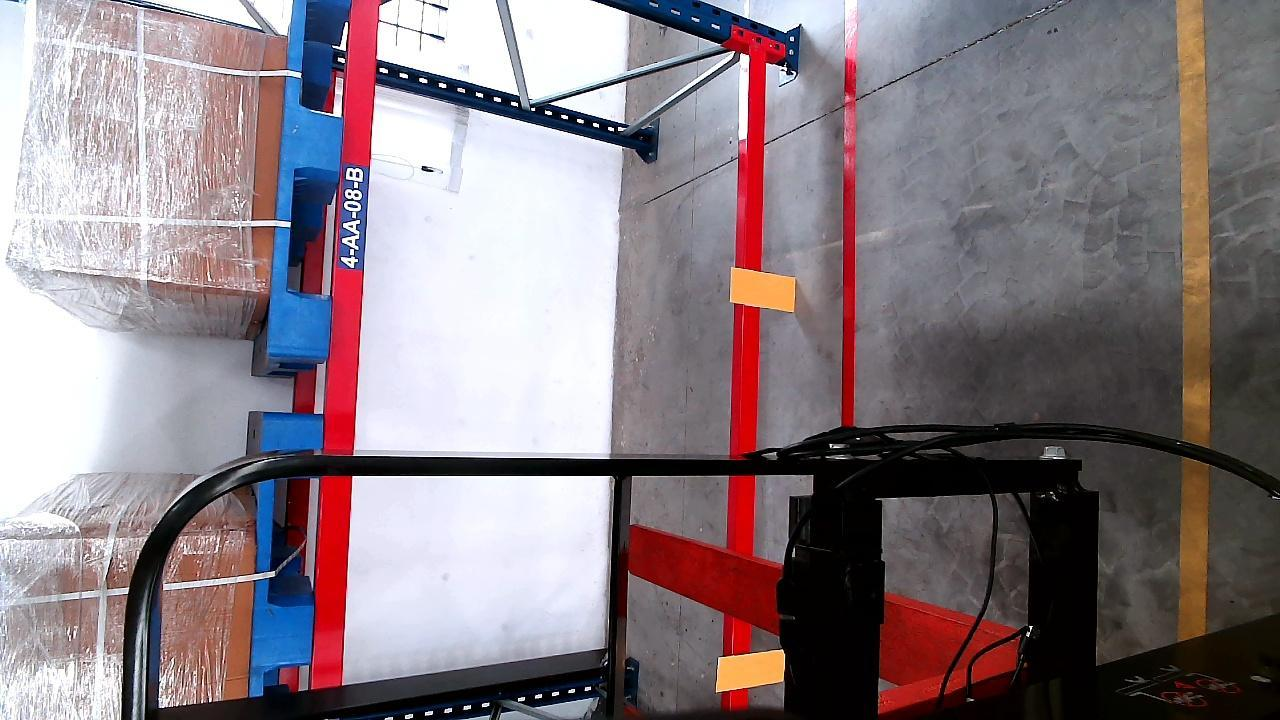red_line: (839, 16, 861, 422)
yellow_line: (1178, 0, 1217, 647)
